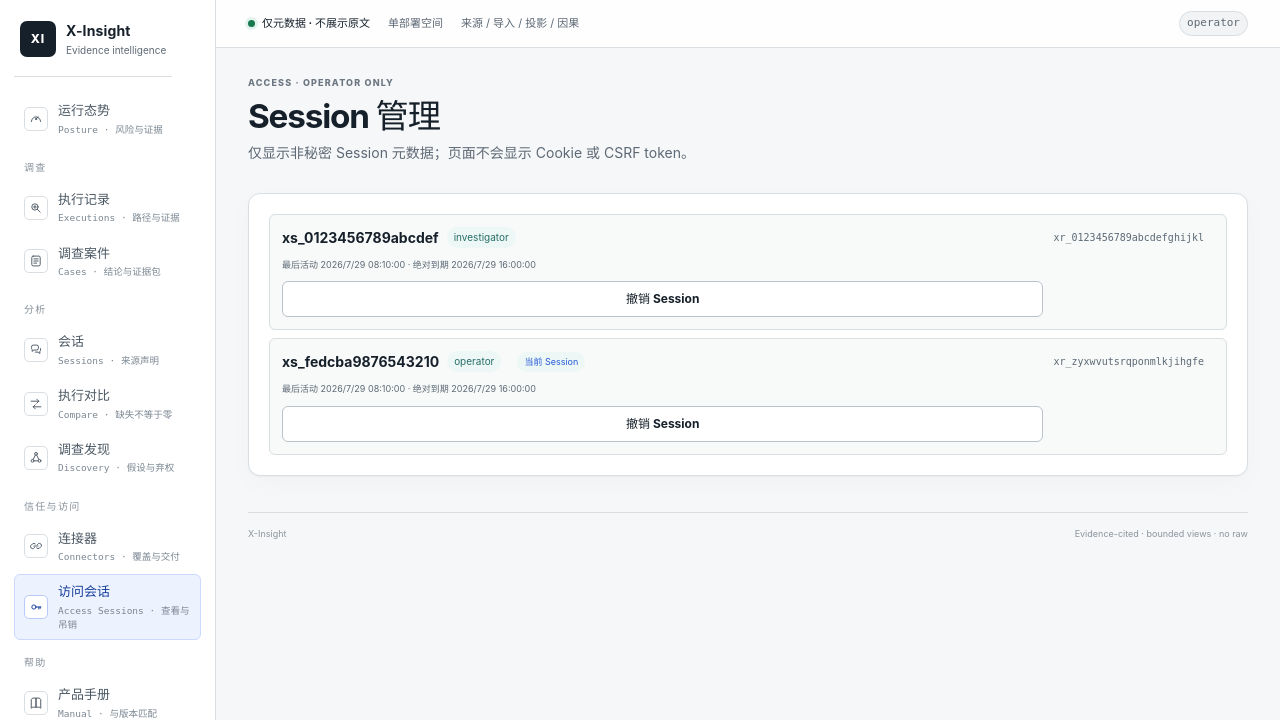
PRD2 investigation UI › treats successful self-revoke as immediate local logout
expect the list item "xs_fedcba9876543210" is shown: met, box [282,353,439,370]
Click the button "撤销 Session" below "xs_fedcba9876543210" at point(663, 424), box [282,406,1044,442]
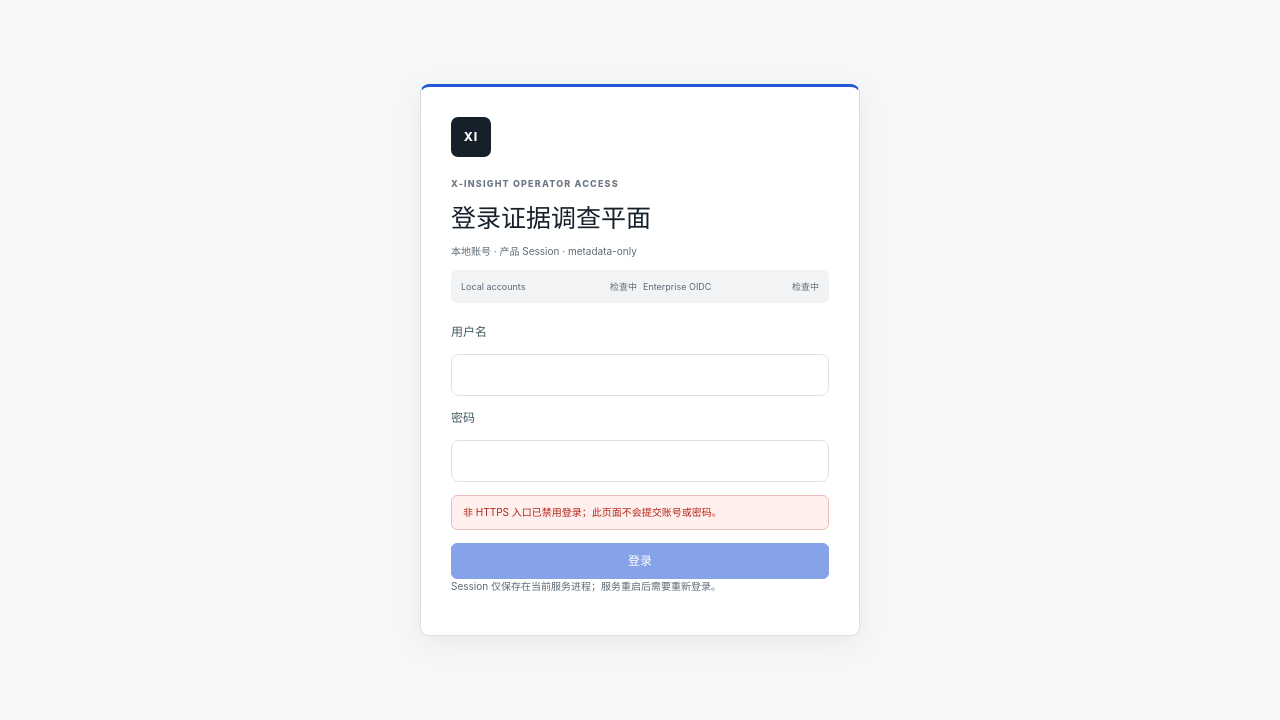
expect the heading "登录证据调查平面" is shown: met, box [451,203,651,233]
